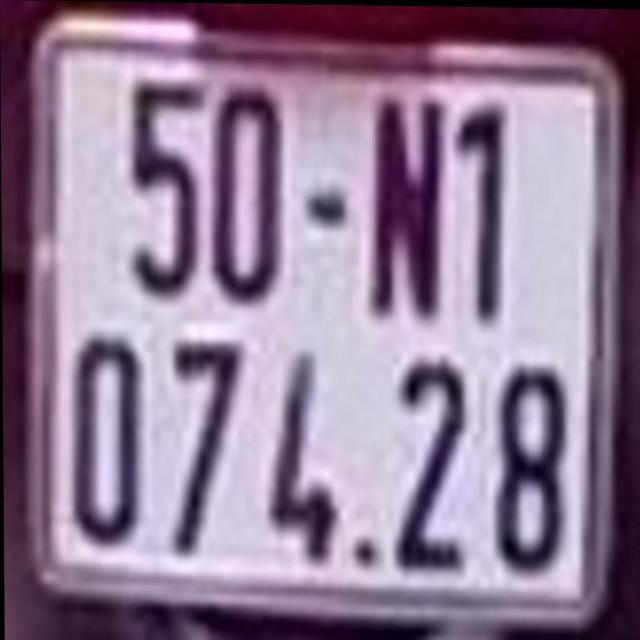0: (210, 83, 285, 309), (74, 332, 135, 545)
1: (459, 104, 510, 317)
2: (399, 356, 465, 569)
4: (268, 350, 340, 564)
5: (131, 80, 203, 302)
7: (170, 340, 246, 555)
8: (496, 364, 564, 571)
N: (370, 95, 443, 317)
